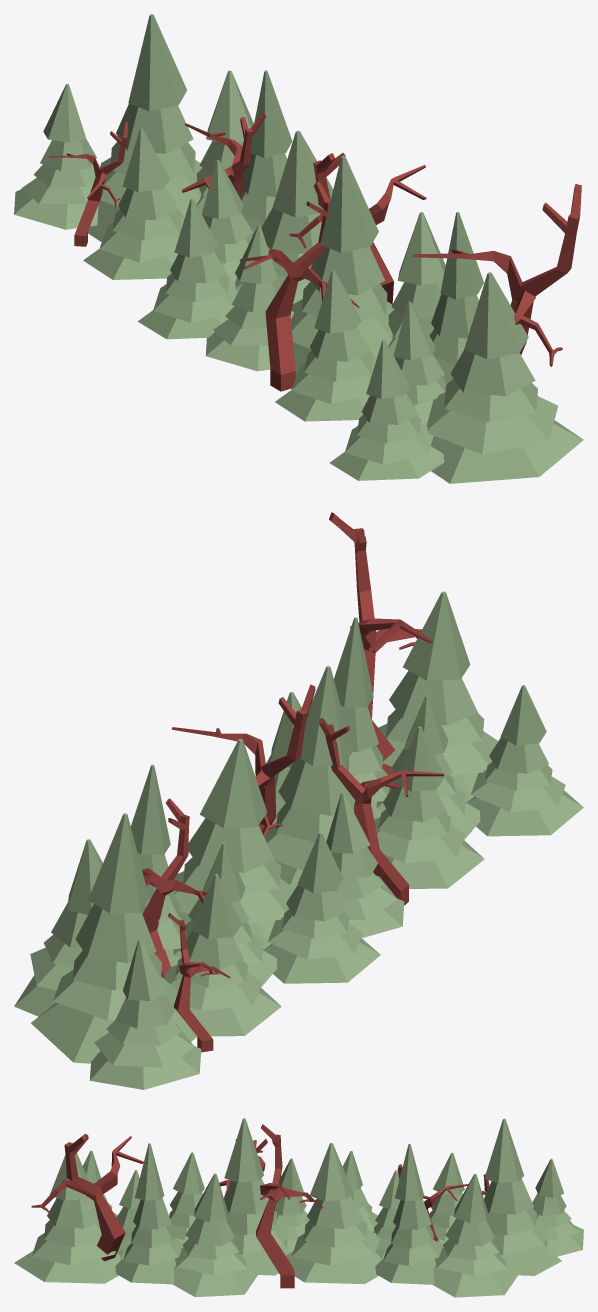
File: BorderTrees.obj
3 views of the same model, one above another, from view 1: azimuth 30°, elevation 25°; view 2: azimuth 150°, elevation 25°; view 3: azimuth 270°, elevation 25° (orthographic). The views are drawn at different scales.
Visible parts, largest first — view 1: BorderTrees_Cylinder.005; view 2: BorderTrees_Cylinder.005; view 3: BorderTrees_Cylinder.005.
Part boxes in pixels (bbox=[...]): BorderTrees_Cylinder.005: bbox=[14, 14, 583, 483]; BorderTrees_Cylinder.005: bbox=[14, 512, 583, 1089]; BorderTrees_Cylinder.005: bbox=[14, 1118, 583, 1297].
Size of the model in its own units: 13.47 by 13.57 by 41.69.
